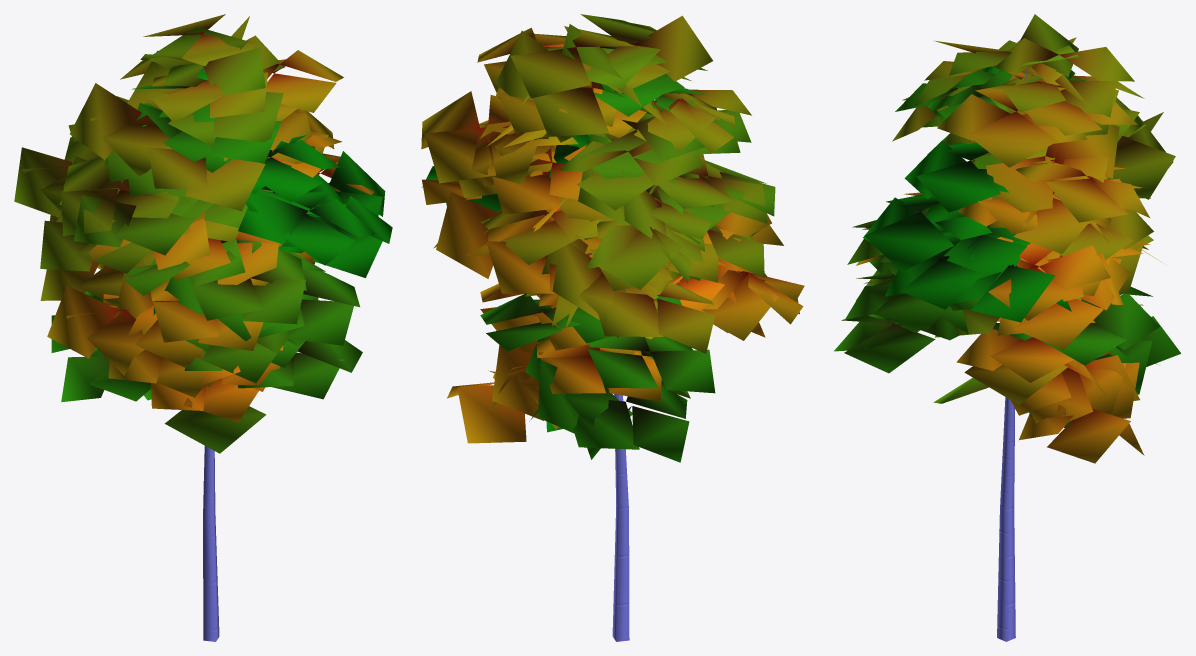
The model's file is tree_Birch_LOD1.fbx.
3 renders of one model, left to right at view 1: azimuth 30°, elevation 25°; view 2: azimuth 150°, elevation 25°; view 3: azimuth 270°, elevation 25°, orthographic. The views are drawn at different scales.
Visible parts, largest first — view 1: Birch_LOD1; view 2: Birch_LOD1; view 3: Birch_LOD1.
Boxes of the visible parts, box(x1,y1,x2,y2) form: Birch_LOD1: box(14, 14, 392, 641); Birch_LOD1: box(421, 14, 804, 641); Birch_LOD1: box(834, 14, 1180, 641).
Size of the model in its own units: 857 by 1396 by 736.
